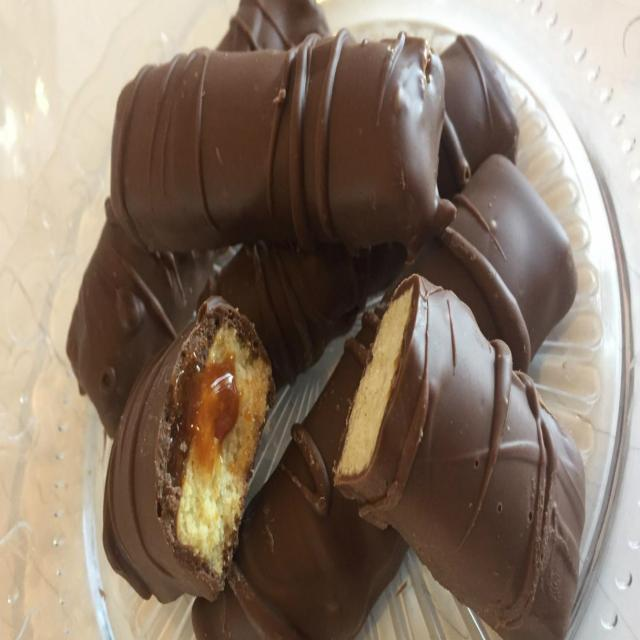Chocolate bar packaged: (336, 260, 584, 640), (111, 35, 445, 261), (104, 291, 270, 610)
